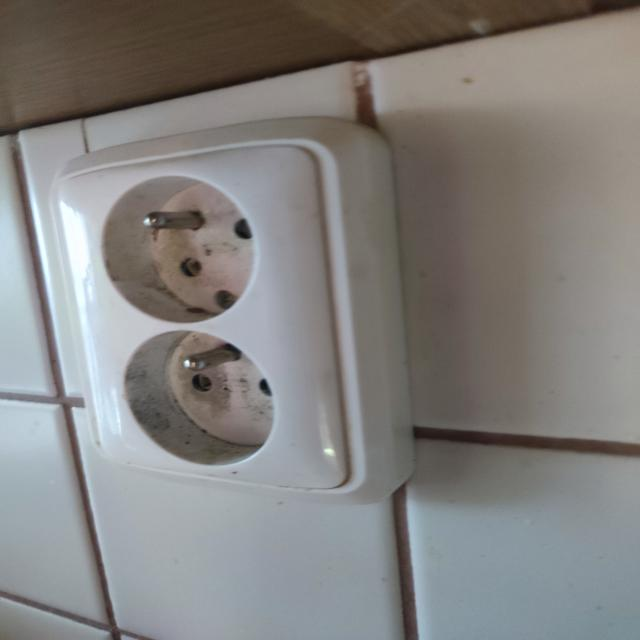house plug: (91, 158, 283, 329), (107, 326, 287, 474)
